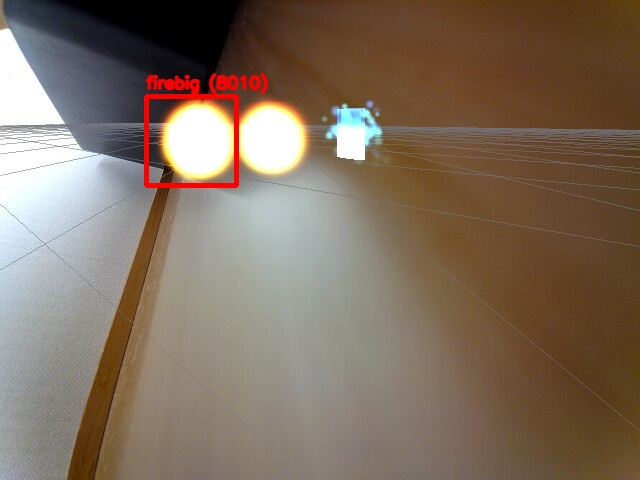firebig: (146, 96, 236, 185)
